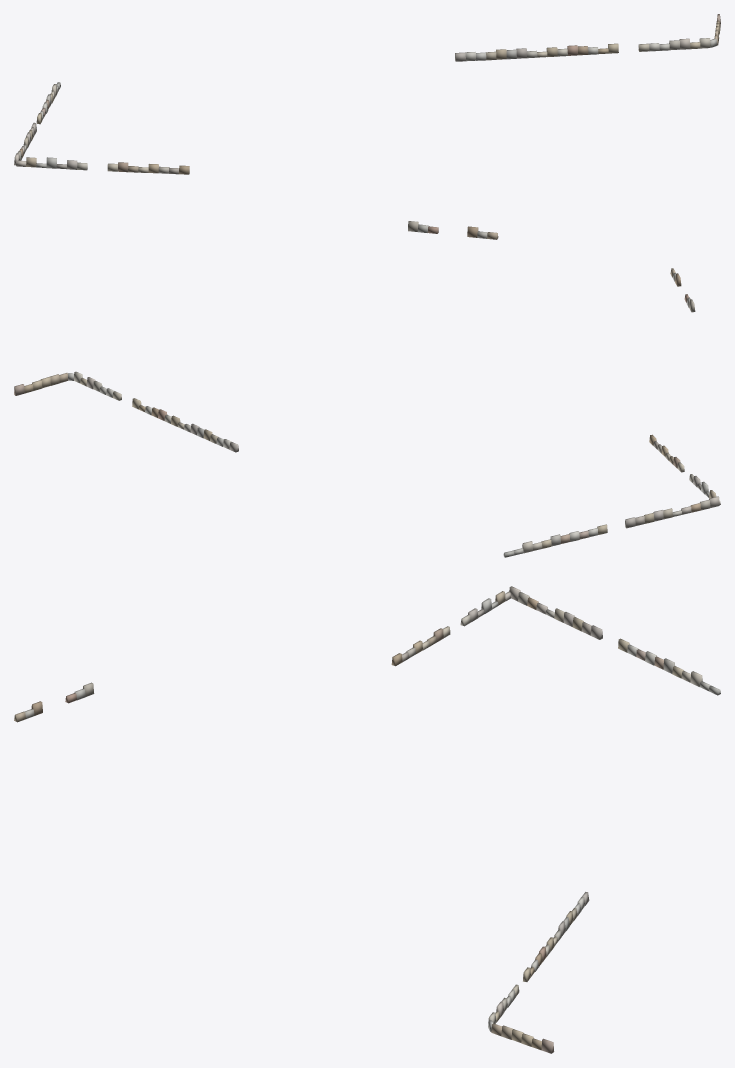
The model's file is farm_2_12_collision.glb.
The picture shows the model from 3 angles, top to bottom: view 1: azimuth 30°, elevation 25°; view 2: azimuth 150°, elevation 25°; view 3: azimuth 270°, elevation 25°; orthographic projection. The views are drawn at different scales.
Parts seen in each view (by area): view 1: geometry_0; view 2: geometry_0; view 3: geometry_0.
Boxes of the visible parts, box(x1,y1,x2,y2) form: geometry_0: box(14, 14, 720, 239); geometry_0: box(14, 268, 720, 557); geometry_0: box(14, 586, 720, 1053).
Bounding box in the file's own units: 128 × 12.82 × 94.6.
